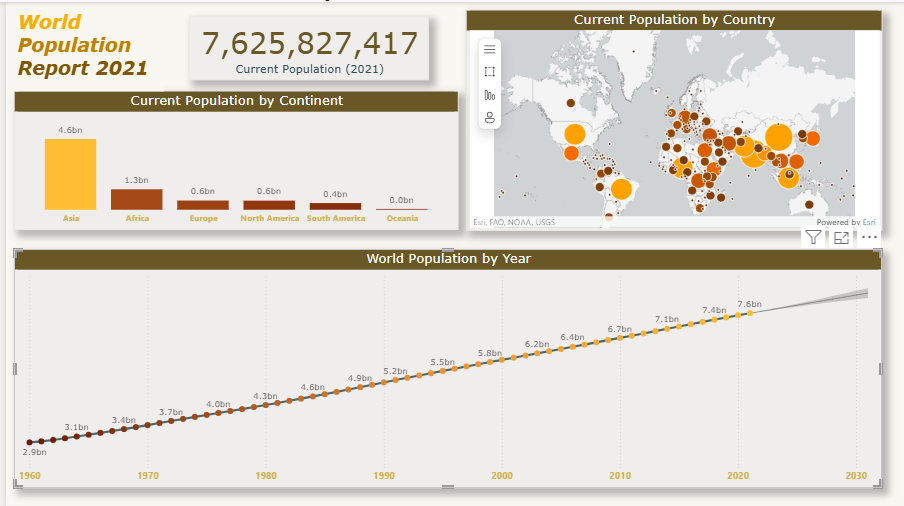

The dashboard page shown, as its layout file describes it:
{"tool":"powerbi","page":{"name":"Page 1","canvas":[1280,720],"ordinal":0},"visuals":[{"type":"clusteredColumnChart","fields":{"Category":["countries-continents-capitals.Continent"],"Y":["WorldPopulation.CurrentPopulation"]},"box":[10.7,126.3,629.8,197.3],"z":0},{"type":"esriVisual","title":"Current Population by Country","fields":{"Size":["WorldPopulation.CurrentPopulation"],"Location":["DimCountry.Country/Territory"],"Color":["WorldPopulation.CurrentPopulation"]},"box":[652.6,10.6,589.7,313],"z":1000},{"type":"card","fields":{"Values":["World-population-by-countries-dataset.CurrentPopulation"]},"box":[259.8,20.4,340.5,91.3],"z":2000},{"type":"textbox","box":[10.6,5.3,211.9,121.5],"z":3000},{"type":"lineChart","title":"World Population by Year","fields":{"Category":["WorldPopulation.Year"],"Y":["Sum(WorldPopulation.Population)"]},"box":[11.3,350.1,1230.2,338.7],"z":4000}]}

Visuals, with their boxes in screenshot pixels (x1, y1, x2, y2), scaled from the page's 1280x720 canvas onto the 904x506 screenshot:
clusteredColumnChart - countries-continents-capitals.Continent x WorldPopulation.CurrentPopulation: select_region(8, 89, 452, 227)
"Current Population by Country" esriVisual: select_region(461, 7, 877, 227)
card - World-population-by-countries-dataset.CurrentPopulation: select_region(183, 14, 424, 79)
textbox: select_region(7, 4, 157, 89)
"World Population by Year" lineChart: select_region(8, 246, 877, 484)
